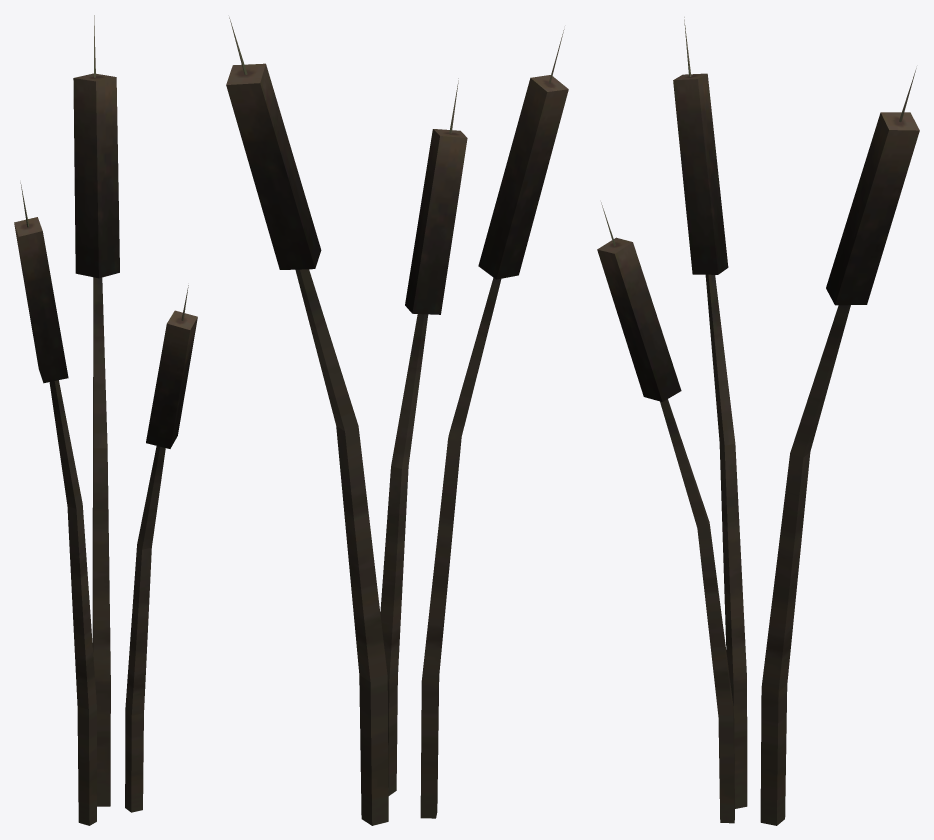
File: cattail_04.fbx
3 renders of one model, left to right at view 1: azimuth 30°, elevation 25°; view 2: azimuth 150°, elevation 25°; view 3: azimuth 270°, elevation 25°, orthographic. The views are drawn at different scales.
Visible parts, largest first — view 1: obj0.103; view 2: obj0.103; view 3: obj0.103.
Part boxes in pixels (left/top/right/bottom): obj0.103: left=14, top=15, right=197, bottom=825; obj0.103: left=226, top=17, right=568, bottom=825; obj0.103: left=597, top=17, right=919, bottom=825.
Bounding box in the file's own units: 0.881 × 3.17 × 1.18.
